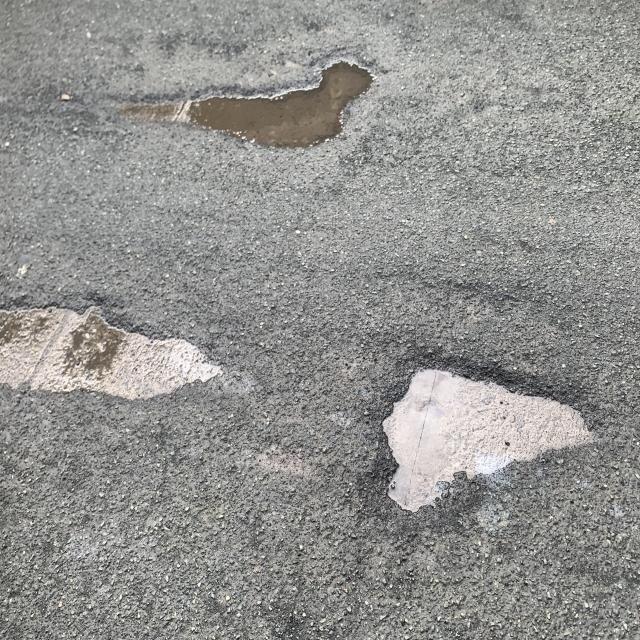pothole: (386, 335, 602, 512), (130, 48, 404, 160)
